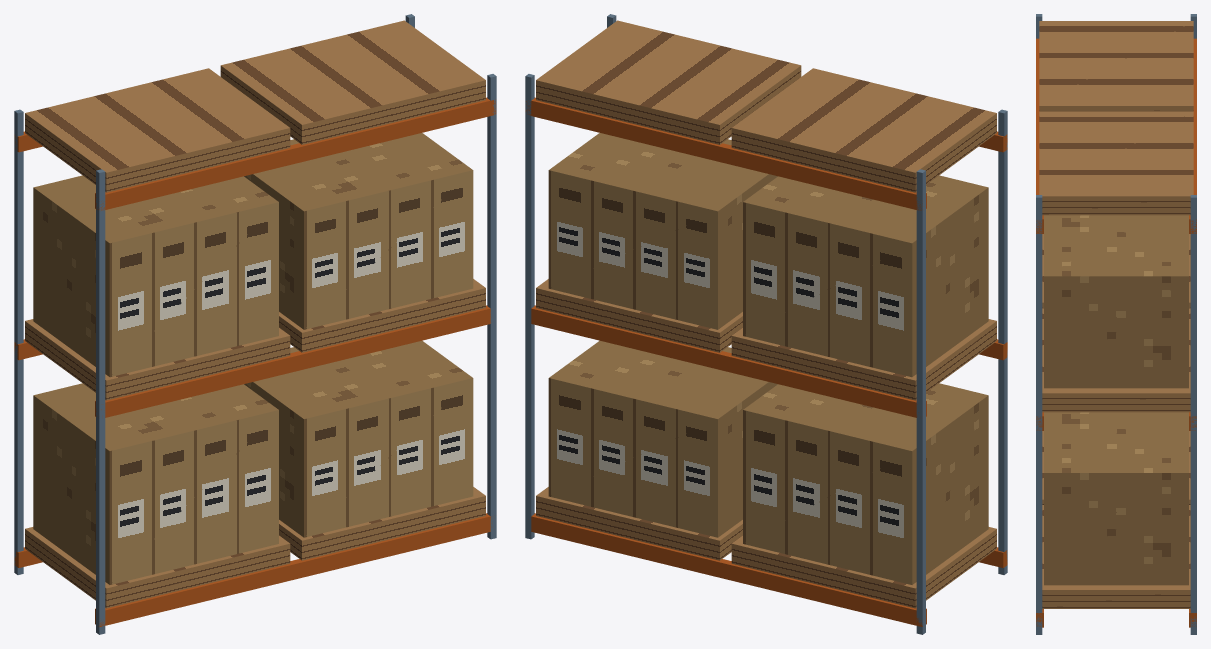
File: COM_PalletRack.glb
3 renders of one model, left to right at view 1: azimuth 30°, elevation 25°; view 2: azimuth 150°, elevation 25°; view 3: azimuth 270°, elevation 25°, orthographic. The views are drawn at different scales.
Visible parts, largest first — view 1: COM_PalletRack_Mesh; view 2: COM_PalletRack_Mesh; view 3: COM_PalletRack_Mesh.
Boxes of the visible parts, bbox=[...] form: COM_PalletRack_Mesh: bbox=[14, 14, 496, 634]; COM_PalletRack_Mesh: bbox=[525, 14, 1007, 634]; COM_PalletRack_Mesh: bbox=[1036, 14, 1196, 634].
Size of what is drawn, in the model's own units: 2.7 by 3 by 1.
1 material, 1 textured.
